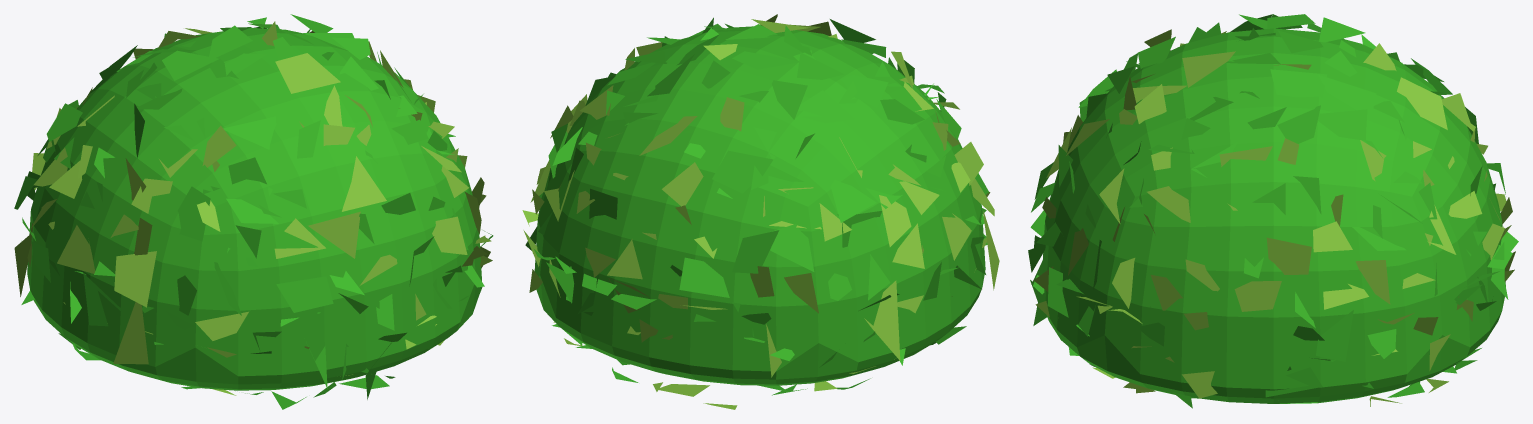
File: Bush_3.fbx
3 views of the same model, side by side, from view 1: azimuth 30°, elevation 25°; view 2: azimuth 150°, elevation 25°; view 3: azimuth 270°, elevation 25° (orthographic). The views are drawn at different scales.
Parts seen in each view (by area): view 1: Cube.007; view 2: Cube.007; view 3: Cube.007.
Part boxes in pixels (bbox=[...]): Cube.007: bbox=[14, 14, 493, 409]; Cube.007: bbox=[522, 14, 999, 409]; Cube.007: bbox=[1028, 14, 1518, 408].
Size of the model in its own units: 82.92 by 60.88 by 83.36.
